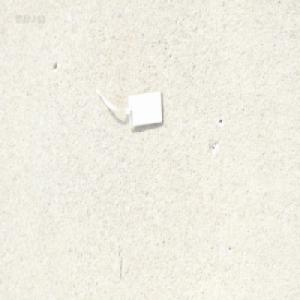LuggageTag: (93, 73, 164, 131)
